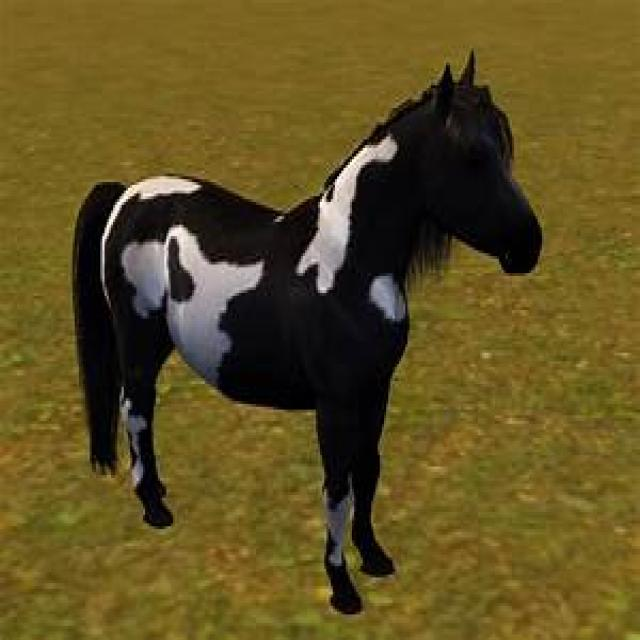horse: (70, 54, 544, 617)
